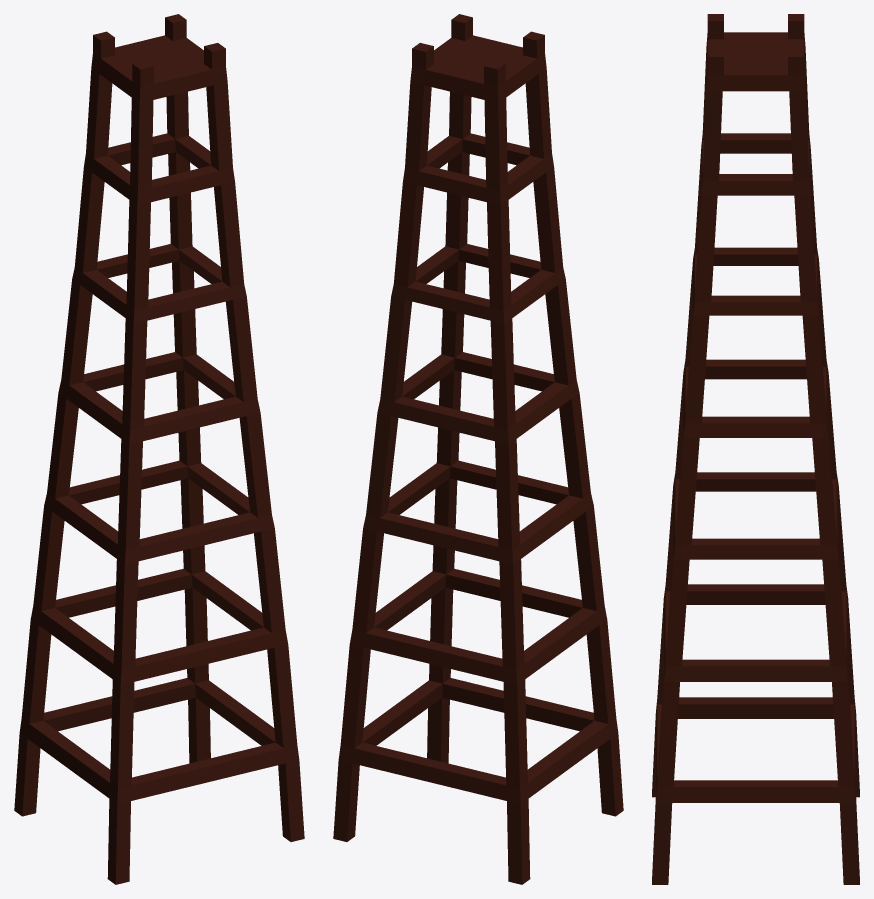
File: WindmillCollider.fbx
3 views of the same model, side by side, from view 1: azimuth 30°, elevation 25°; view 2: azimuth 150°, elevation 25°; view 3: azimuth 270°, elevation 25° (orthographic). The views are drawn at different scales.
Visible parts, largest first — view 1: Windmill; view 2: Windmill; view 3: Windmill.
Boxes of the visible parts, x1,y1,x2,y2 form: Windmill: (14,14,304,884); Windmill: (333,14,623,884); Windmill: (652,14,859,884).
Size of the model in its own units: 20.42 by 80.84 by 18.98.
